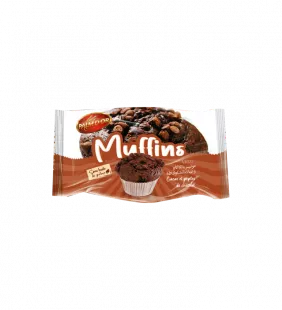PALM D'OR: (44, 100, 236, 212)
